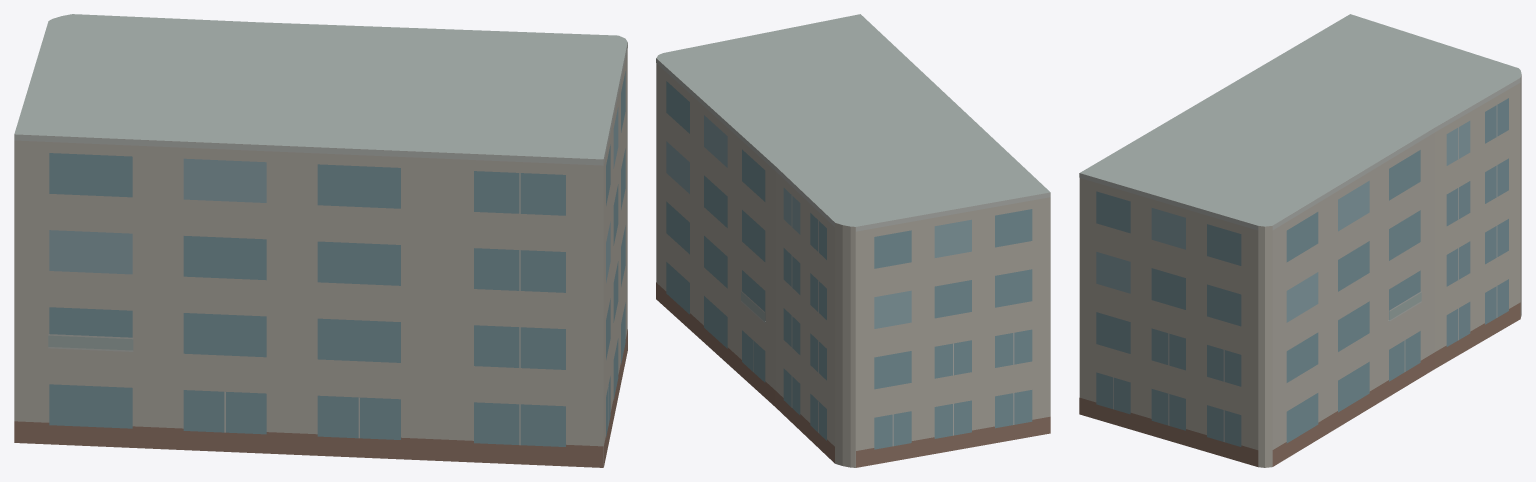
File: survey-upis-32701423.glb
The picture shows the model from 3 angles, left to right: view 1: azimuth 30°, elevation 25°; view 2: azimuth 150°, elevation 25°; view 3: azimuth 270°, elevation 25°; orthographic projection. The views are drawn at different scales.
Parts seen in each view (by area): view 1: survey-upis-32701423.tmp; view 2: survey-upis-32701423.tmp; view 3: survey-upis-32701423.tmp.
Boxes of the visible parts, x1,y1,x2,y2 form: survey-upis-32701423.tmp: (14, 14, 627, 467); survey-upis-32701423.tmp: (656, 14, 1050, 467); survey-upis-32701423.tmp: (1079, 14, 1521, 467).
Size of the model in its own units: 23.24 by 12.3 by 20.42.
